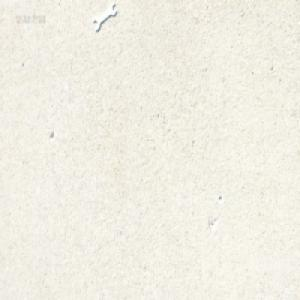Wrench: (93, 3, 116, 31)
